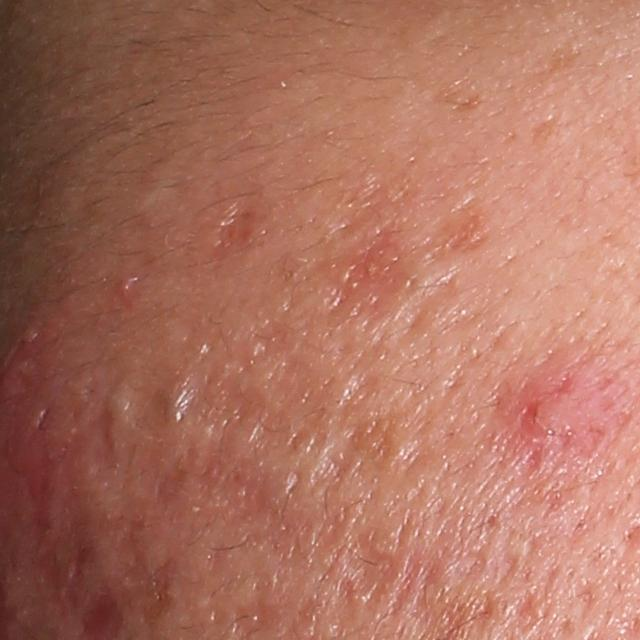atrophic_scar: (133, 432, 362, 577), (307, 175, 418, 327), (200, 314, 303, 452), (108, 509, 181, 625), (81, 362, 139, 472), (333, 525, 401, 615), (120, 352, 186, 435), (211, 189, 272, 256), (314, 438, 356, 490)
melasma: (431, 203, 499, 267), (541, 35, 585, 84), (529, 111, 560, 155)
papule: (500, 353, 615, 467), (114, 267, 145, 299)
